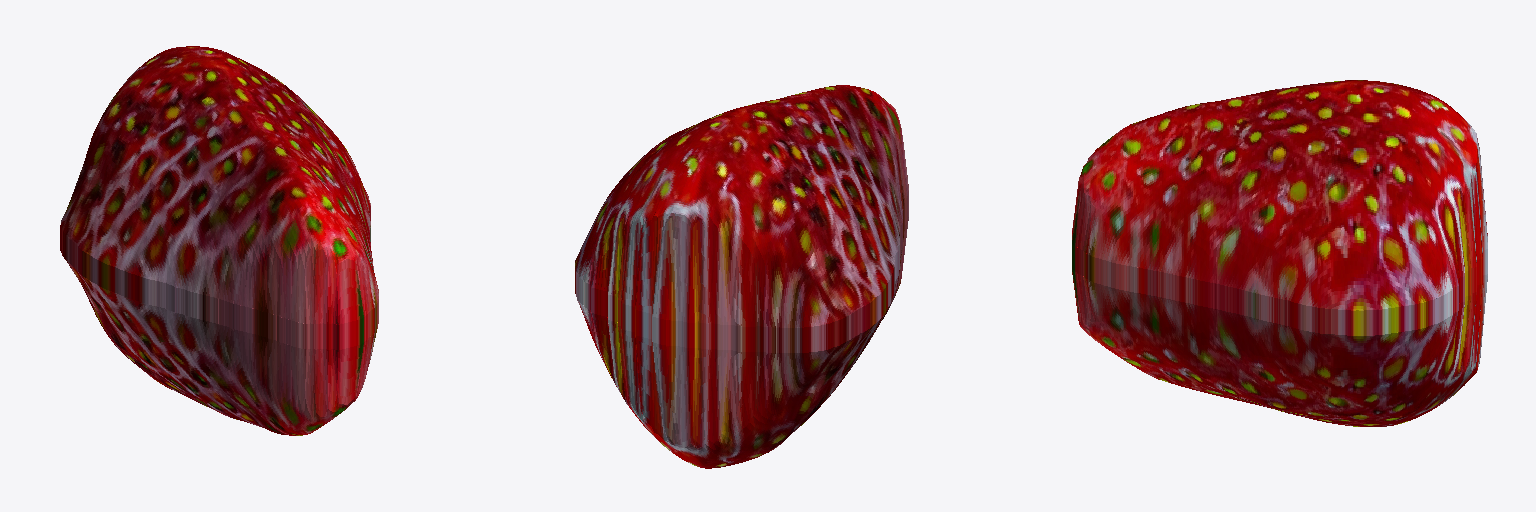
3 renders of one model, left to right at view 1: azimuth 30°, elevation 25°; view 2: azimuth 150°, elevation 25°; view 3: azimuth 270°, elevation 25°, orthographic.
Parts seen in each view (by area): view 1: Grid; view 2: Grid; view 3: Grid.
Part boxes in pixels (x1,y1,x2,y2): Grid: (60, 46, 378, 435); Grid: (575, 85, 908, 468); Grid: (1072, 80, 1487, 426).
Bounding box in the file's own units: 1.36 × 1.6 × 1.79.
1 materials, 1 textured.